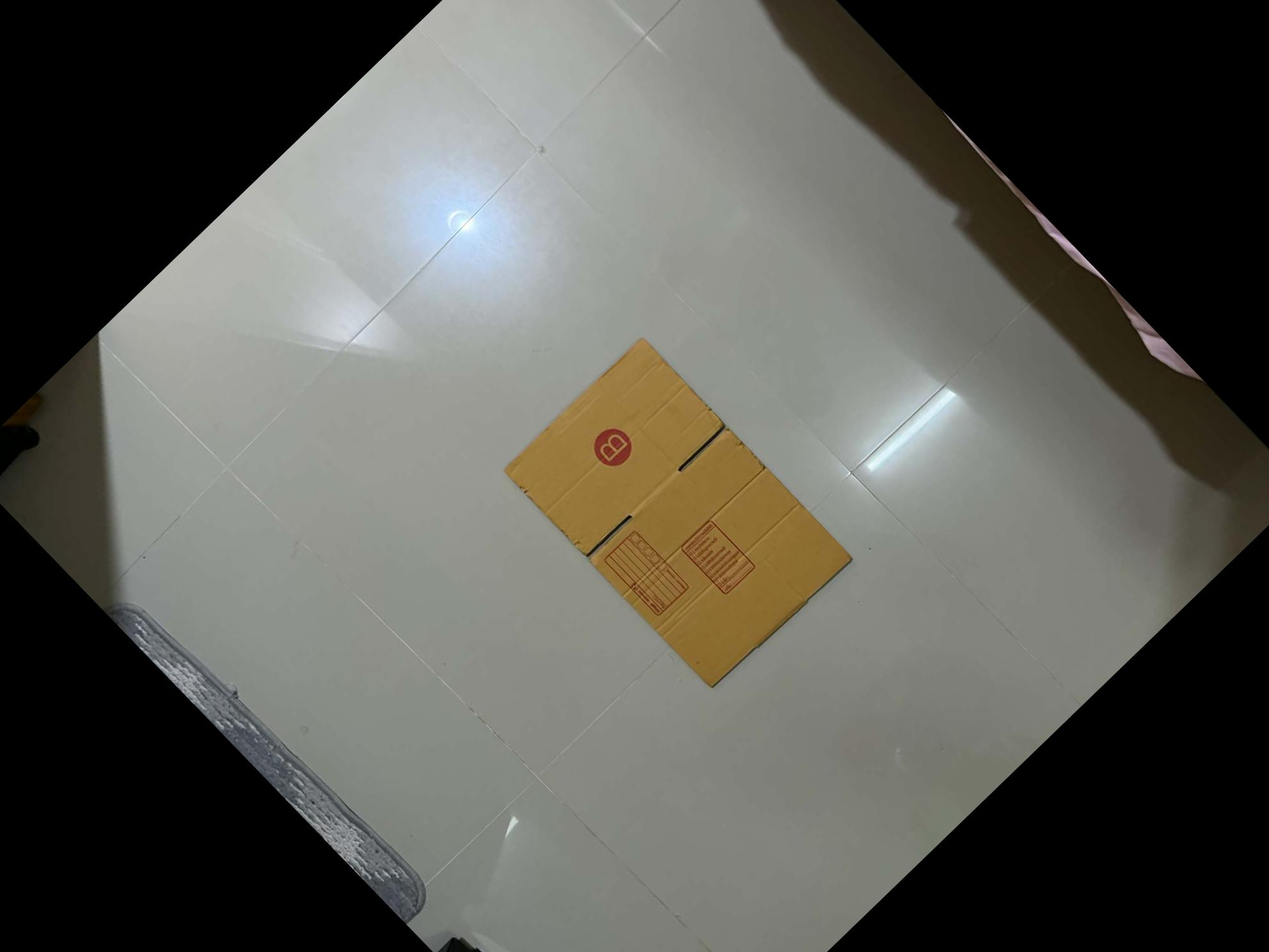box: (598, 528, 692, 623), (674, 515, 759, 600), (584, 417, 643, 476)
class0: (496, 330, 862, 700)
